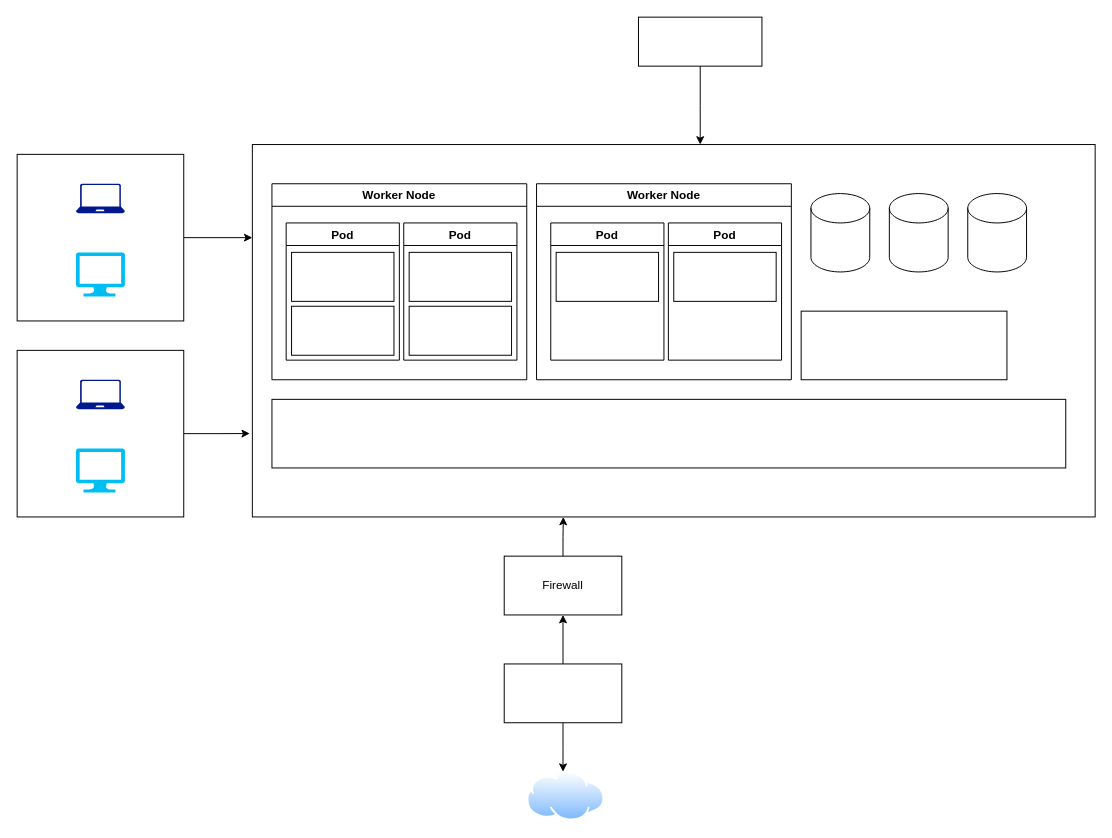
This 1112x838 diagram has some shape labels left out. The box of each missing label's shape, as (x1, y1, x2, y2) in pixels:
Hypervisor: (271, 398, 1066, 468)
Master Node: (800, 310, 1007, 380)
Monitoring Tool: (637, 16, 762, 66)
Switch/Router: (503, 663, 622, 723)
